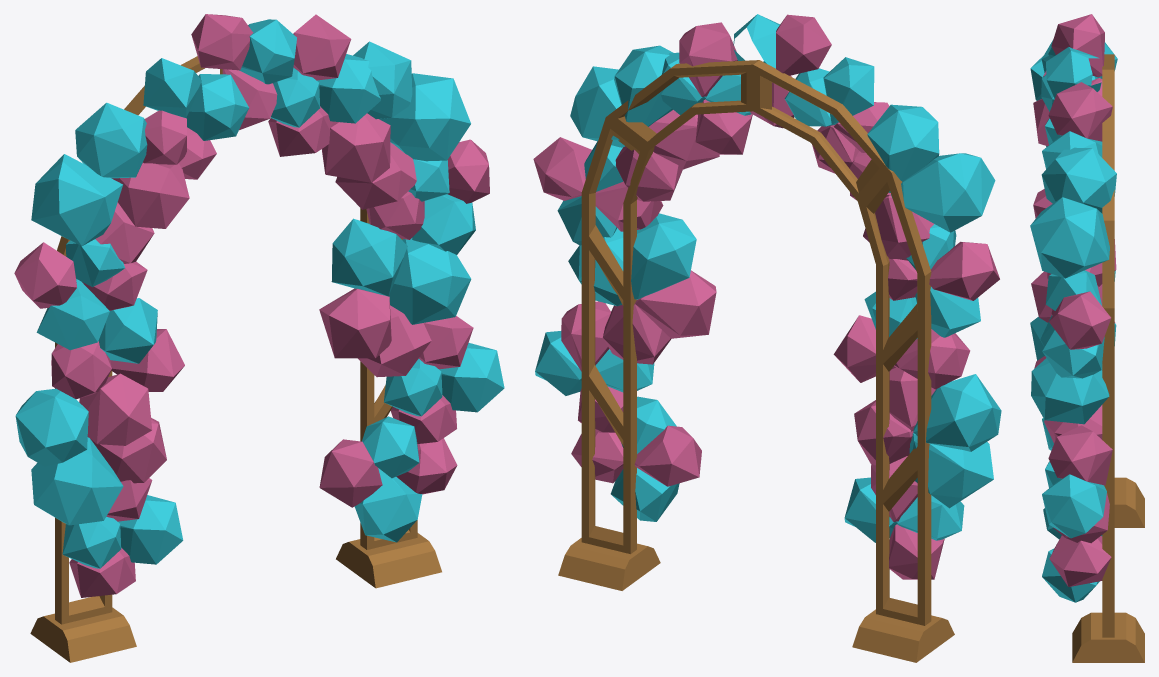
File: props-wedding-arch-balloons.glb
3 renders of one model, left to right at view 1: azimuth 30°, elevation 25°; view 2: azimuth 150°, elevation 25°; view 3: azimuth 270°, elevation 25°, orthographic. The views are drawn at different scales.
Parts seen in each view (by area): view 1: wedding-arch-balloons; view 2: wedding-arch-balloons; view 3: wedding-arch-balloons.
Boxes of the visible parts, x1,y1,x2,y2 form: wedding-arch-balloons: (14, 14, 504, 662); wedding-arch-balloons: (533, 14, 1001, 662); wedding-arch-balloons: (1030, 14, 1144, 662).
Bounding box in the file's own units: 2.26 × 2.75 × 0.5209.
